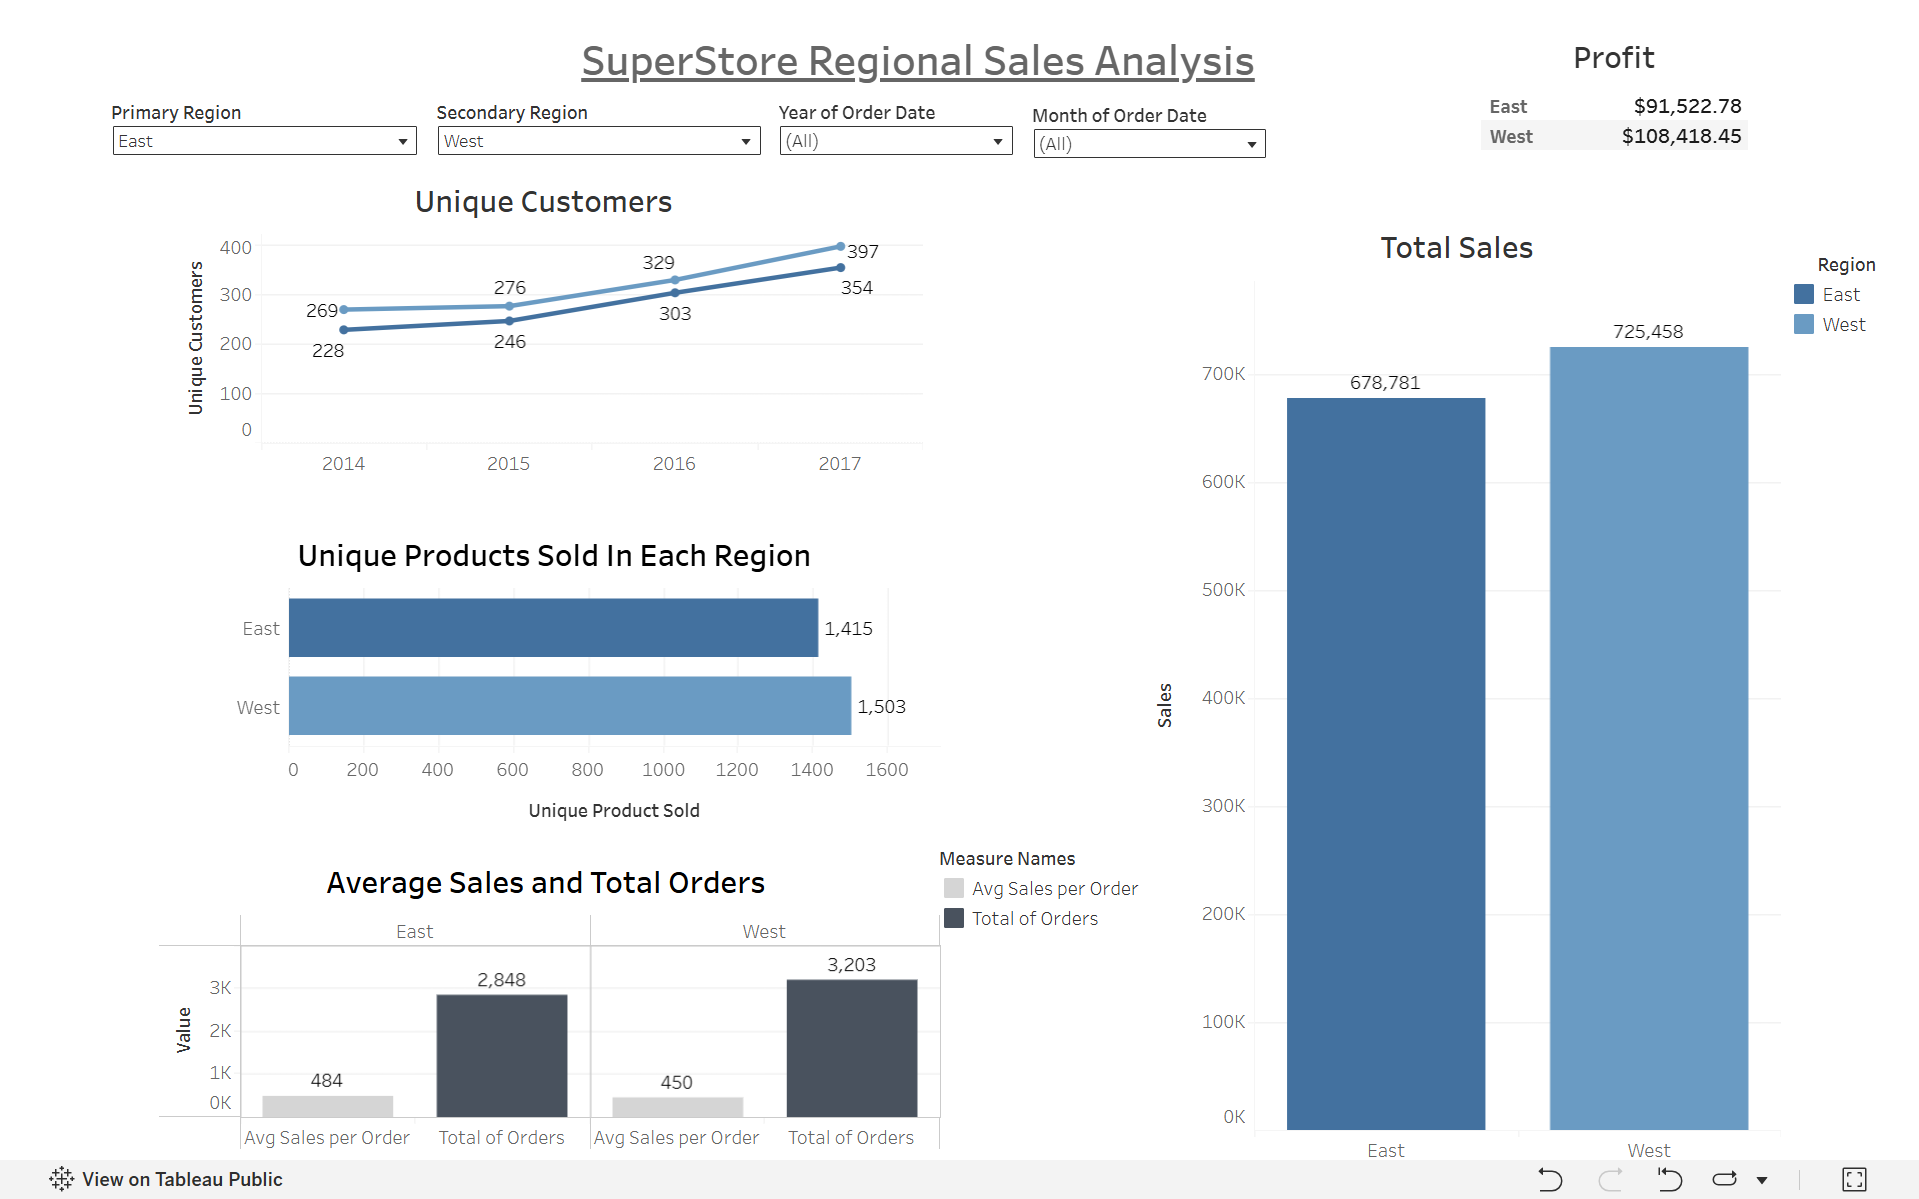

This screenshot's page, from the dashboard's own definition file:
{"tool":"tableau","page":{"name":"Dashboard 1","canvas":[1000,1000],"units":"permille","ordinal":0},"visuals":[{"type":"text","box":[242.8,6.3,470.7,87.8]},{"type":"worksheet","title":"Sheet 5","mark":"Automatic","rows":["Region"],"box":[770.9,21.9,171.7,167.7]},{"type":"parameter","param":"[Parameters].[Parameter 1]","box":[57.5,84.6,160.2,65.8]},{"type":"parameter","param":"[Parameters].[Parameter 2]","box":[227.6,84.6,169.3,73.7]},{"type":"filter","title":"Sheet 1","param":"[federated.16u9y2v0gbl93h18o0pgm0v2n4fz].[yr:Order Date:ok]","box":[405.4,84.6,122.6,75.2]},{"type":"filter","title":"Sheet 1","param":"[federated.16u9y2v0gbl93h18o0pgm0v2n4fz].[mn:Order Date:ok]","box":[537.2,86.2,122.6,75.2]},{"type":"worksheet","title":"Sheet 3","mark":"Automatic","rows":["Calculation_0014019557298286"],"cols":["Order Date"],"box":[88.9,145.8,391.6,264.9]},{"type":"worksheet","title":"Sheet 1","mark":"Automatic","rows":["Sales"],"cols":["Calculation_0014019552890979"],"box":[593.9,186.5,333.3,816.6]},{"type":"legend","title":"Sheet 1","param":"[federated.16u9y2v0gbl93h18o0pgm0v2n4fz].[none:Calculation_0014019552890979:nk]","box":[931.8,216.3,62.1,92.5]},{"type":"worksheet","title":"Sheet 4","mark":"Automatic","rows":["Calculation_0014019552890979"],"cols":["Calculation_0014019558559855"],"box":[87.4,451.4,402.3,264.9]},{"type":"legend","title":"Sheet 2","param":"[federated.16u9y2v0gbl93h18o0pgm0v2n4fz].[:Measure Names]","box":[488.9,728.8,118,127]},{"type":"worksheet","title":"Sheet 2","mark":"Automatic","cols":["Calculation_0014019552890979"],"box":[82.8,733.5,406.9,258.6]}]}

Visuals, with their boxes on the dashboard's canvas, which has no fixed pixel size, in thousandths of its width and height (x1, y1, x2, y2). These are canvas units, not pixel positions in the 1919x1199 screenshot, which may show the page scaled, cropped or inside an application window:
text: bbox=[243, 6, 714, 94]
"Sheet 5" worksheet: bbox=[771, 22, 943, 190]
parameter: bbox=[58, 85, 218, 150]
parameter: bbox=[228, 85, 397, 158]
"Sheet 1" filter: bbox=[405, 85, 528, 160]
"Sheet 1" filter: bbox=[537, 86, 660, 161]
"Sheet 3" worksheet: bbox=[89, 146, 480, 411]
"Sheet 1" worksheet: bbox=[594, 186, 927, 1003]
"Sheet 1" legend: bbox=[932, 216, 994, 309]
"Sheet 4" worksheet: bbox=[87, 451, 490, 716]
"Sheet 2" legend: bbox=[489, 729, 607, 856]
"Sheet 2" worksheet: bbox=[83, 734, 490, 992]
